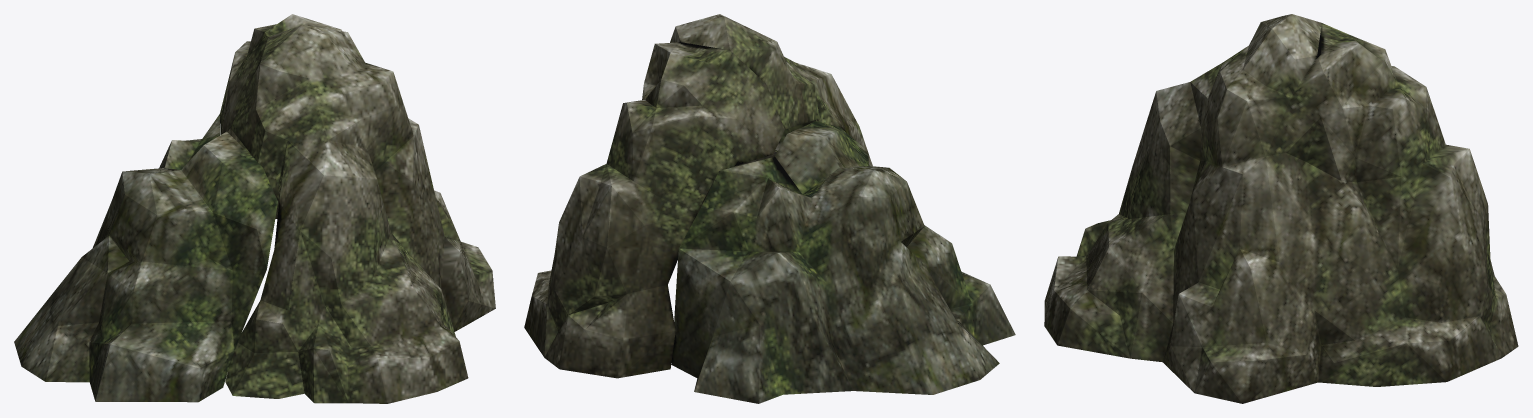
Rendered from d_sd_shitou01_st.FBX.
3 views of the same model, side by side, from view 1: azimuth 30°, elevation 25°; view 2: azimuth 150°, elevation 25°; view 3: azimuth 270°, elevation 25° (orthographic). The views are drawn at different scales.
Visible parts, largest first — view 1: d_sd_shitou01_st_A02, d_sd_shitou01_st_A01; view 2: d_sd_shitou01_st_A01, d_sd_shitou01_st_A02; view 3: d_sd_shitou01_st_A02.
Part boxes in pixels (bbox=[...]): d_sd_shitou01_st_A02: bbox=[220, 14, 495, 403]; d_sd_shitou01_st_A01: bbox=[14, 114, 277, 402]; d_sd_shitou01_st_A01: bbox=[671, 121, 1015, 403]; d_sd_shitou01_st_A02: bbox=[524, 14, 872, 378]; d_sd_shitou01_st_A02: bbox=[1044, 14, 1518, 403].
Size of the model in its own units: 1804 by 1131 by 1604.
